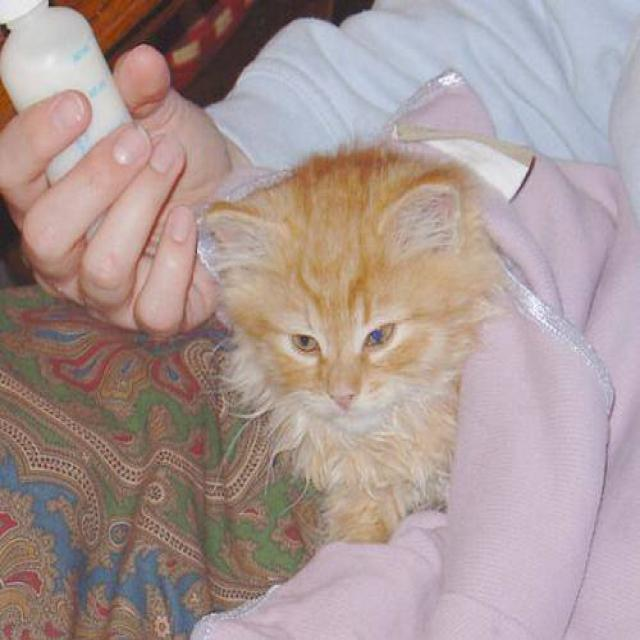cat: (196, 138, 513, 545)
